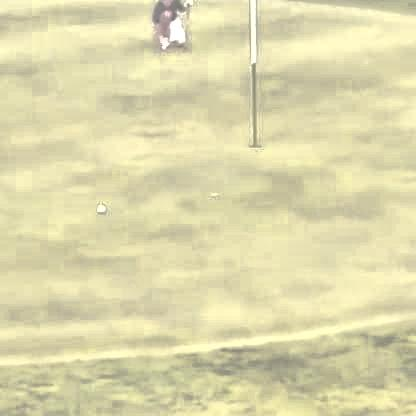golfball: (93, 201, 104, 212)
